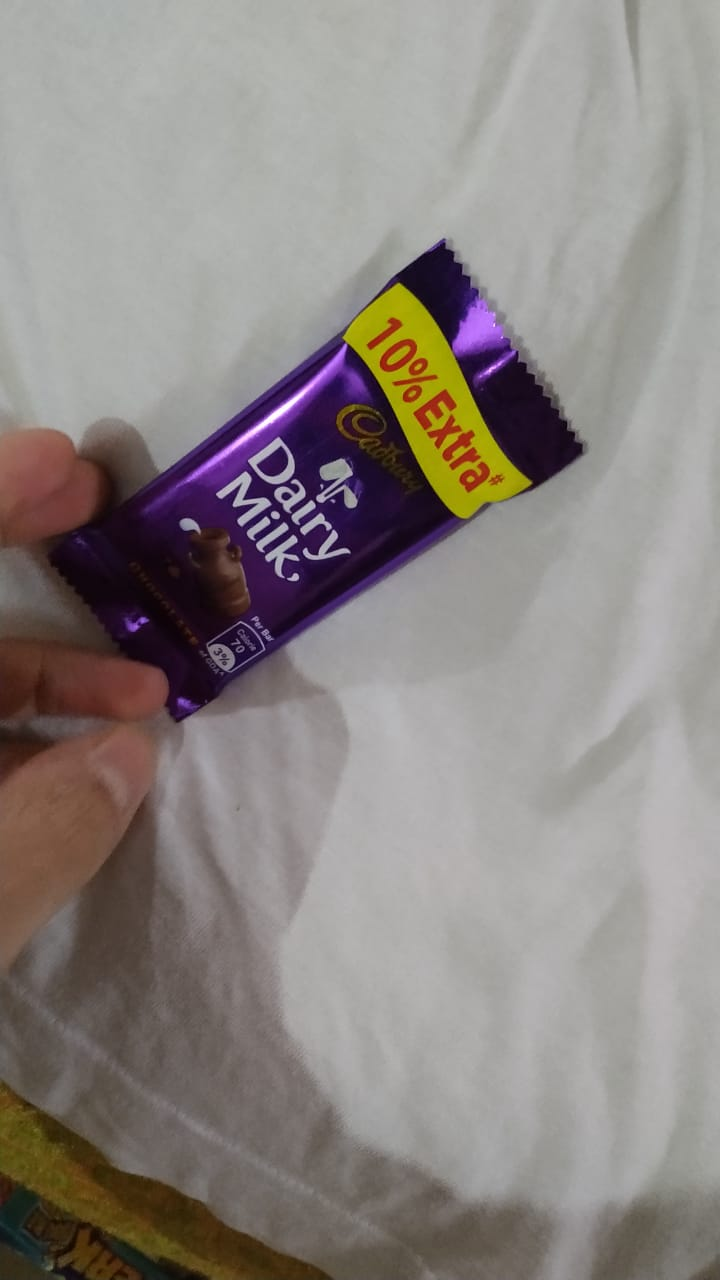dairy milk: (68, 251, 537, 731)
